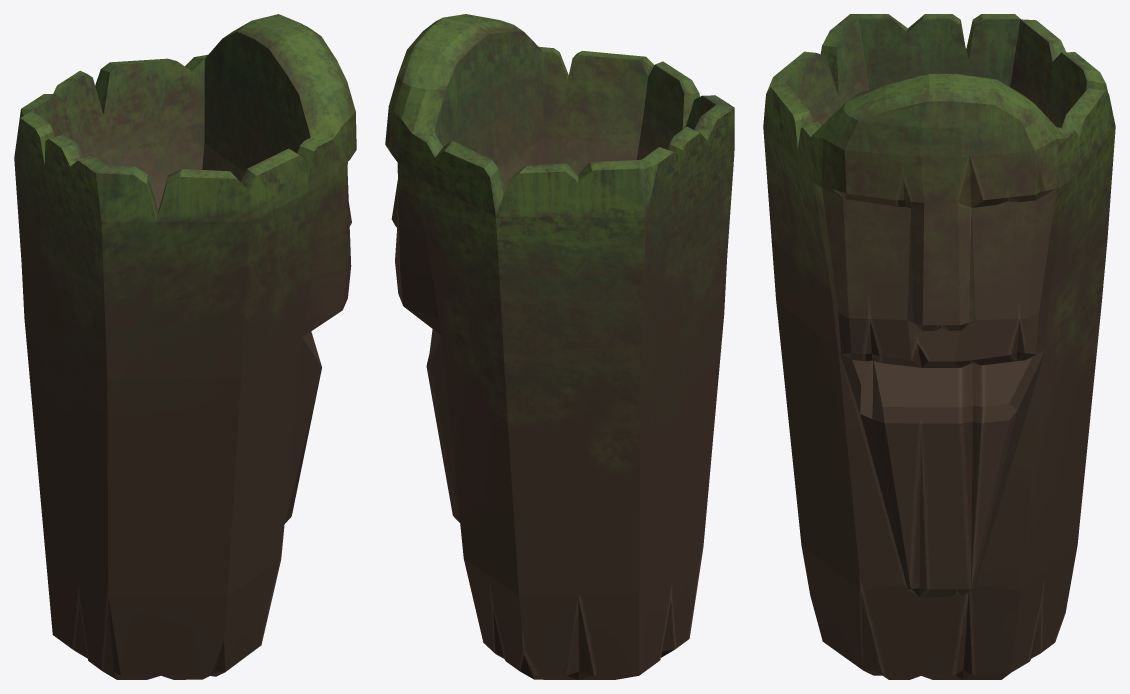
File: WiseTree.fbx
3 renders of one model, left to right at view 1: azimuth 30°, elevation 25°; view 2: azimuth 150°, elevation 25°; view 3: azimuth 270°, elevation 25°, orthographic. The views are drawn at different scales.
Visible parts, largest first — view 1: Cylinder.003; view 2: Cylinder.003; view 3: Cylinder.003.
Part boxes in pixels (bbox=[...]): Cylinder.003: bbox=[14, 14, 356, 679]; Cylinder.003: bbox=[385, 14, 734, 679]; Cylinder.003: bbox=[763, 14, 1115, 679].
Size of the model in its own units: 104 by 200 by 101.
